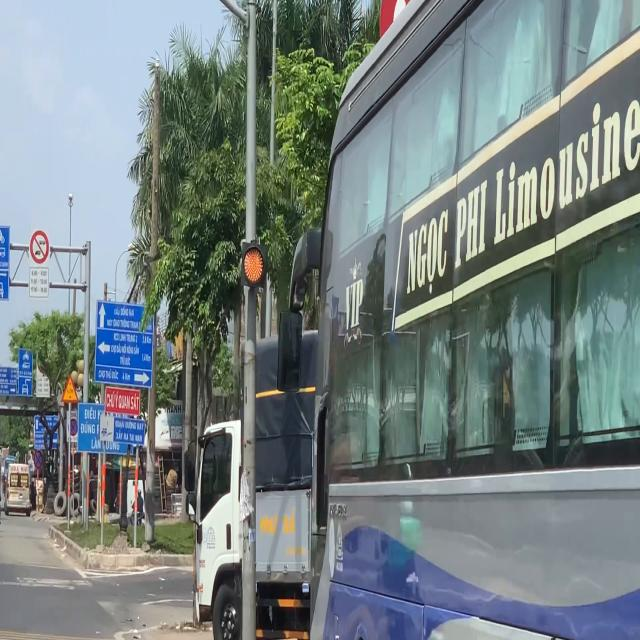Nguy hiem: (60, 372, 79, 406)
